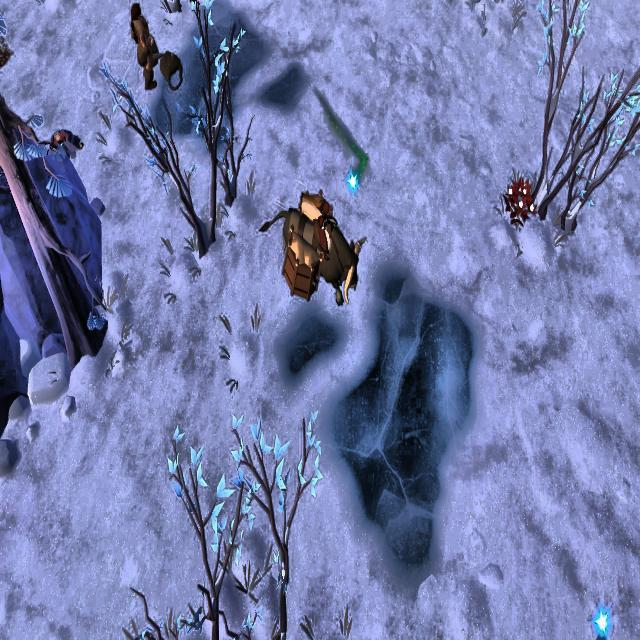enemy_factionKeeper: (124, 0, 161, 94)
fiber_t5: (498, 174, 536, 230)
